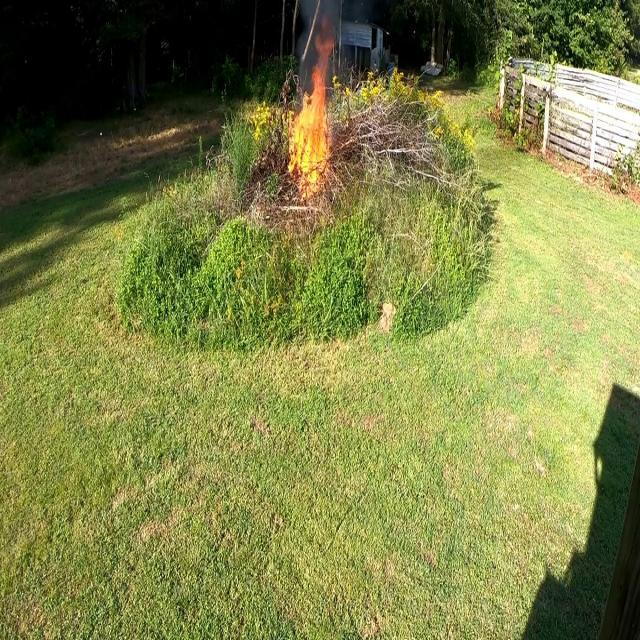Fire: (285, 36, 340, 194)
